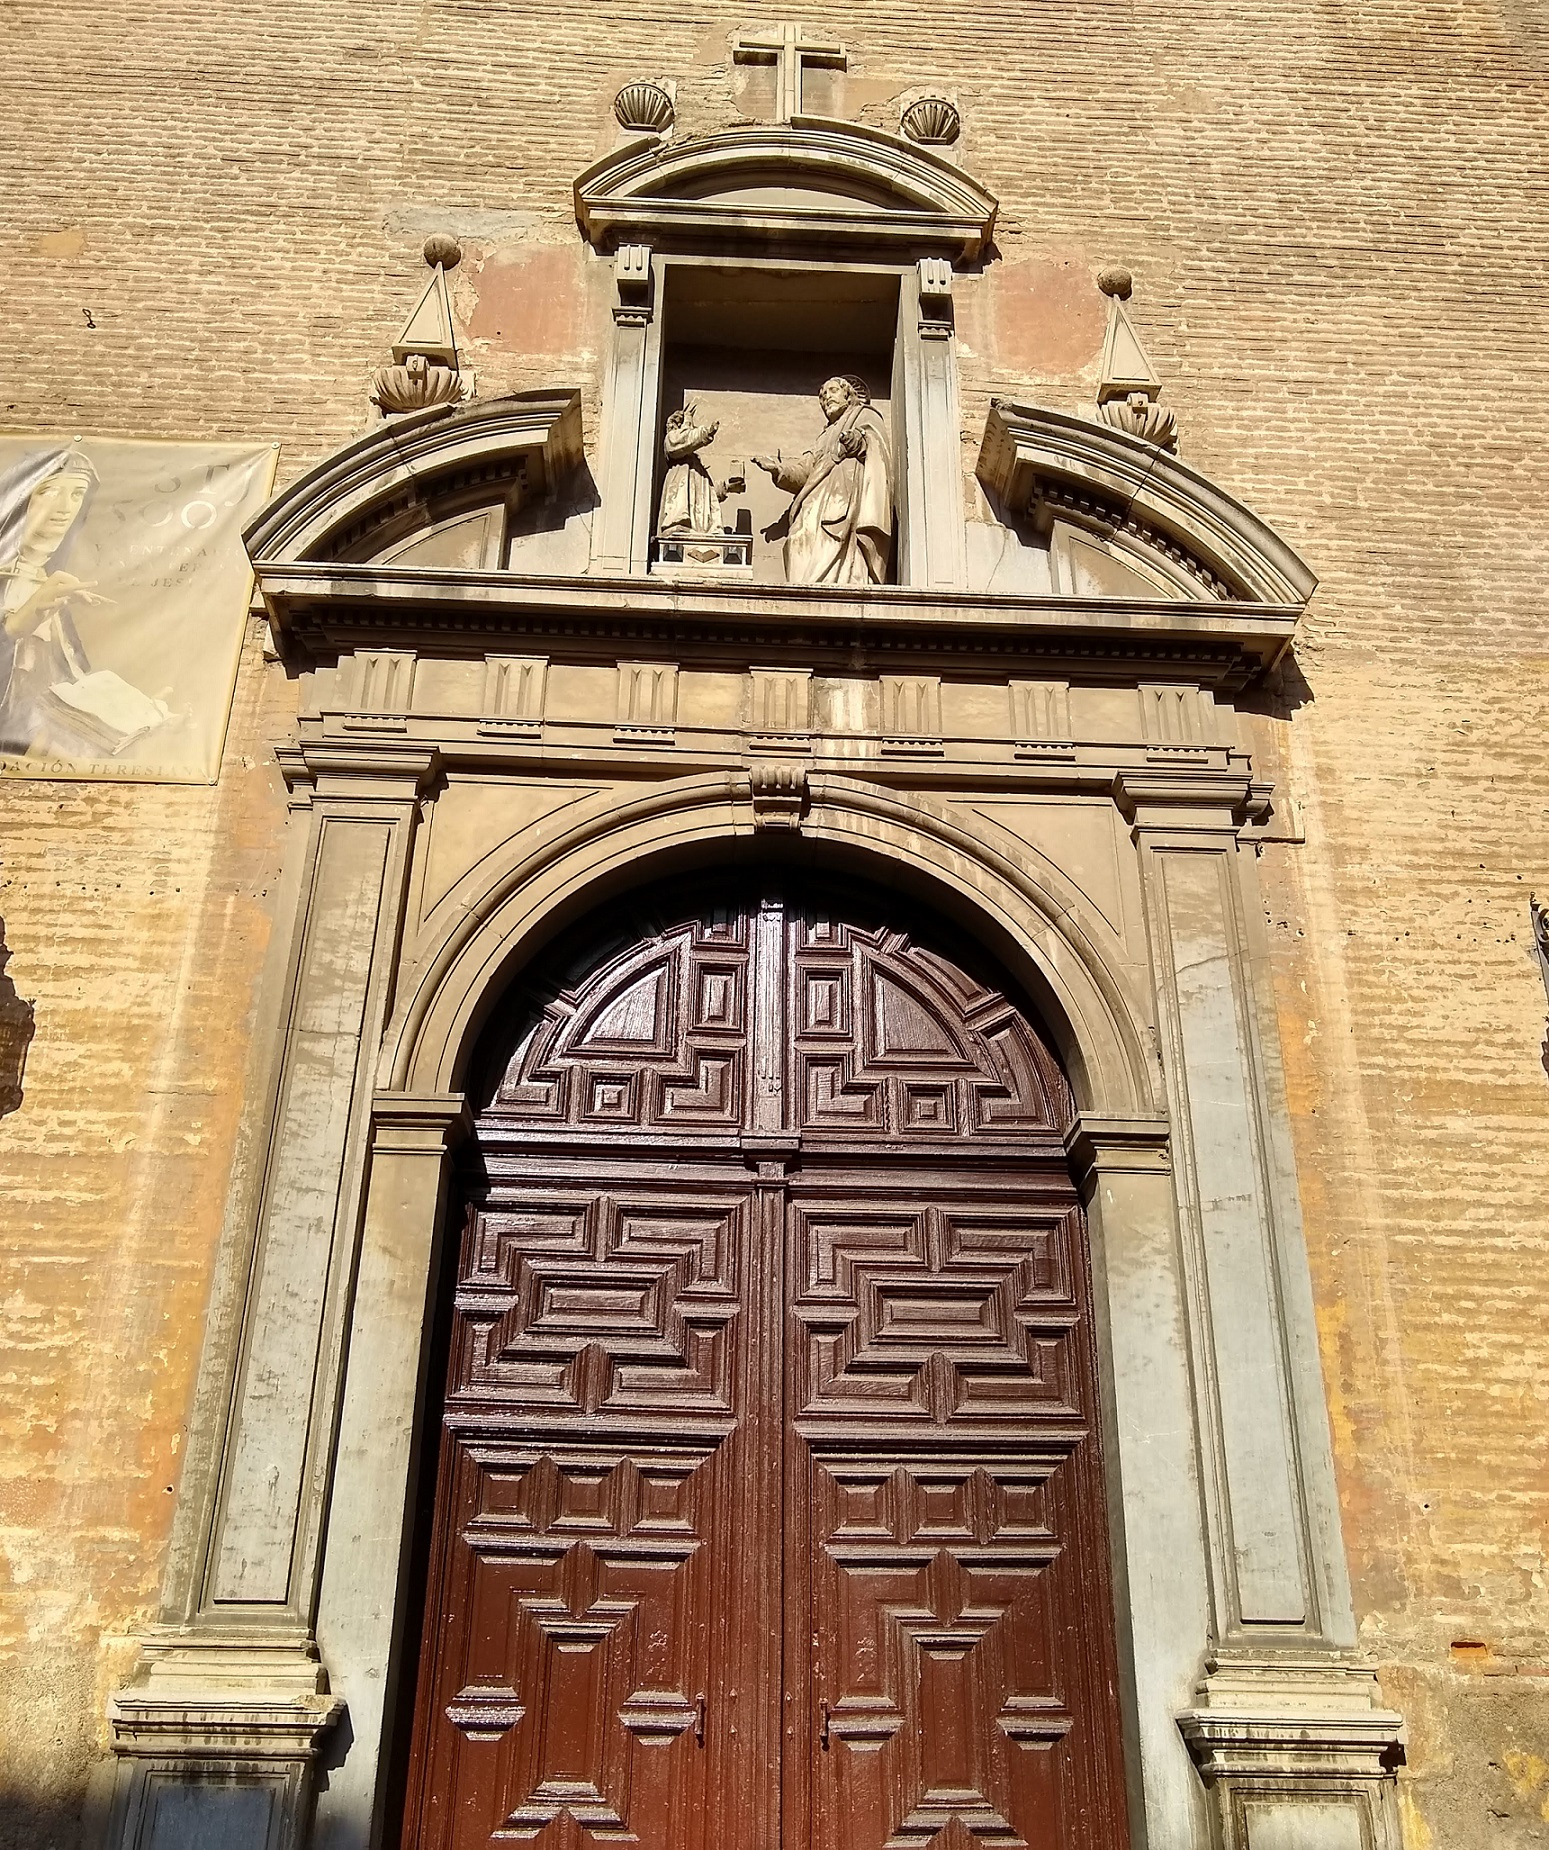arco-medio-punto: (423, 802, 1126, 1205)
fronton-curvo: (570, 115, 1010, 255)
fronton-partido: (232, 383, 1332, 651)
vano-adintelado: (615, 243, 965, 598)
